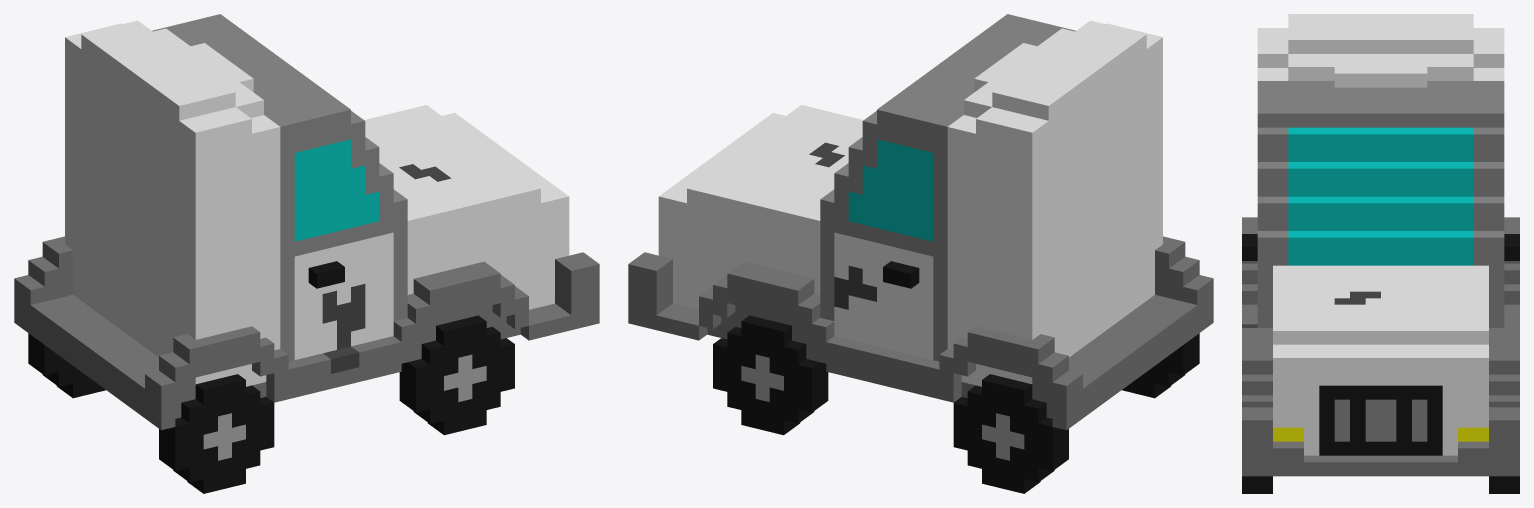
Rendered from truck1_health2.obj.
3 views of the same model, side by side, from view 1: azimuth 30°, elevation 25°; view 2: azimuth 150°, elevation 25°; view 3: azimuth 270°, elevation 25° (orthographic). The views are drawn at different scales.
Parts seen in each view (by area): view 1: truck1_health2; view 2: truck1_health2; view 3: truck1_health2.
Boxes of the visible parts, x1,y1,x2,y2 form: truck1_health2: (14,14,599,493); truck1_health2: (628,14,1213,493); truck1_health2: (1242,14,1519,493).
Bounding box in the file's own units: 31 × 25 × 18.
1 material, 1 textured.
